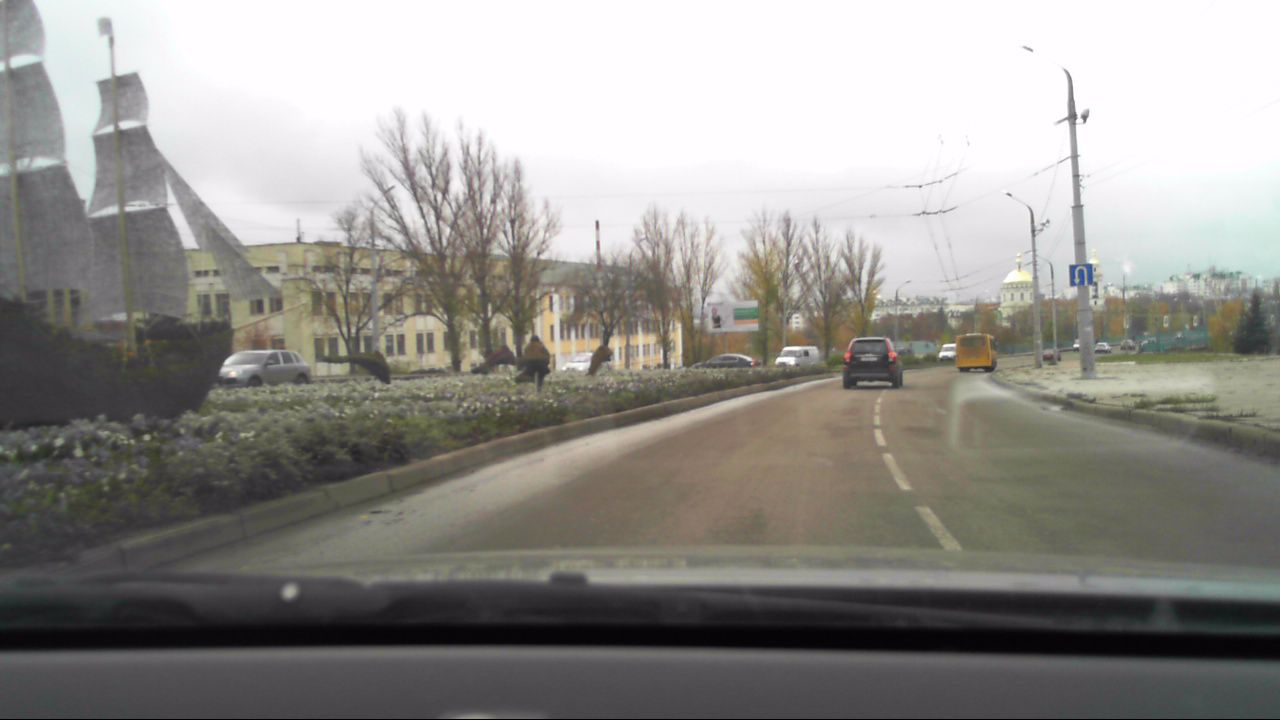U-turn: (1068, 264, 1092, 286)
